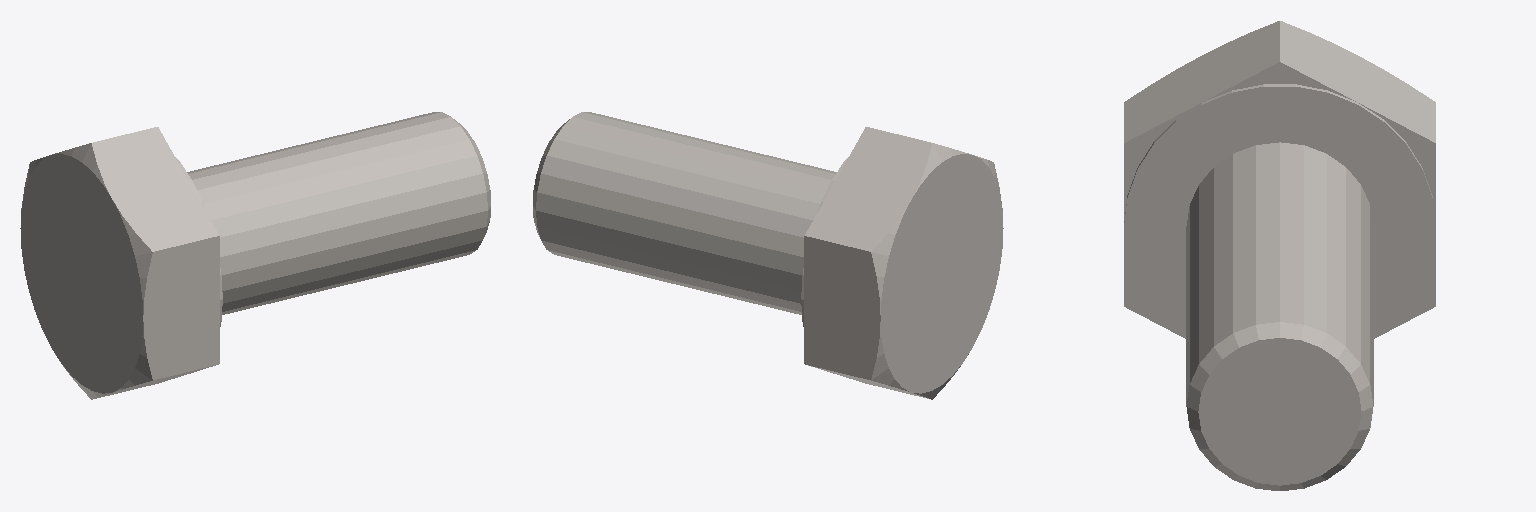
robot.urdf — bout_m30:
<?xml version="1.0" encoding="utf-8"?>
<!-- This URDF was automatically created by SolidWorks to URDF Exporter! Originally created by [author] ([email redacted]) 
     Commit Version: 1.5.1-0-g916b5db  Build Version: 1.5.7152.31018
     For more information, please see http://wiki.ros.org/sw_urdf_exporter -->
<robot
  name="bout_m30">
  <link
    name="base_link">
    <inertial>
      <origin
        xyz="0.00277719675380159 0.00412136580974739 0.0051882759161364"
        rpy="0 0 0" />
      <mass
        value="0.217" />
      <inertia
        ixx="1.20523360503025E-06"
        ixy="-5.68695348377013E-14"
        ixz="-8.90391194379844E-24"
        iyy="1.2052311292769E-06"
        iyz="-3.10355744670128E-13"
        izz="1.72017184631832E-06" />
    </inertial>
    <visual>
      <origin
        xyz="0 0 0"
        rpy="0 0 0" />
      <geometry>
        <mesh
          filename="package://suii_description/Field/objects/meshes/nut_M30.STL" />
      </geometry>
      <material
        name="">
        <color
          rgba="0.776470588235294 0.756862745098039 0.737254901960784 1" />
      </material>
    </visual>
    <collision>
      <origin
        xyz="0 0 0"
        rpy="0 0 0" />
      <geometry>
        <mesh
          filename="package://suii_description/Field/objects/meshes/nut_M30.STL" />
      </geometry>
    </collision>
  </link>
</robot>

--- Render facts (derived) ---
3 views of the same robot in one strip: view 1: azimuth 30°, elevation 25°; view 2: azimuth 150°, elevation 25°; view 3: azimuth 270°, elevation 25° (orthographic).
Model bout_m30 with 1 links and 0 joints (none), rooted at base_link, posed every joint at zero.
Visible links, largest first — view 1: base_link; view 2: base_link; view 3: base_link.
Link boxes in pixels (left/top/right/bottom): base_link: left=20, top=112, right=490, bottom=399; base_link: left=533, top=112, right=1003, bottom=399; base_link: left=1124, top=21, right=1435, bottom=490.
Size in the robot's own frame: 0.0887 by 0.05 by 0.0577 metres.
Meshes: 1 distinct files referenced, 1 mesh visuals loaded (1 binary STL).
